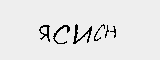И: (71, 21, 93, 47)
Н: (104, 23, 119, 41)
С: (52, 22, 70, 46), (93, 20, 105, 42)
Я: (37, 23, 51, 44)
